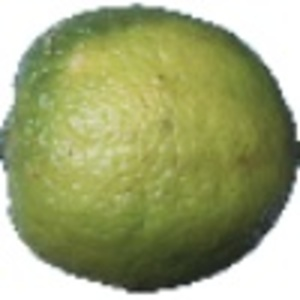limão: (1, 4, 300, 292)
